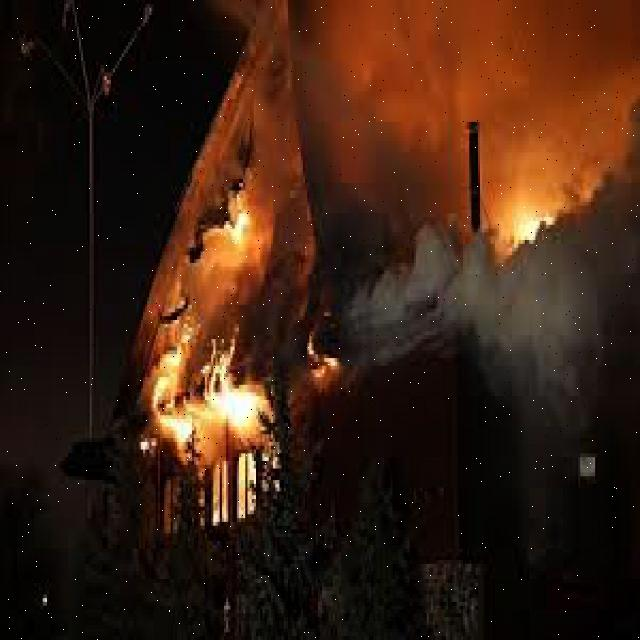fire: (170, 158, 293, 448)
